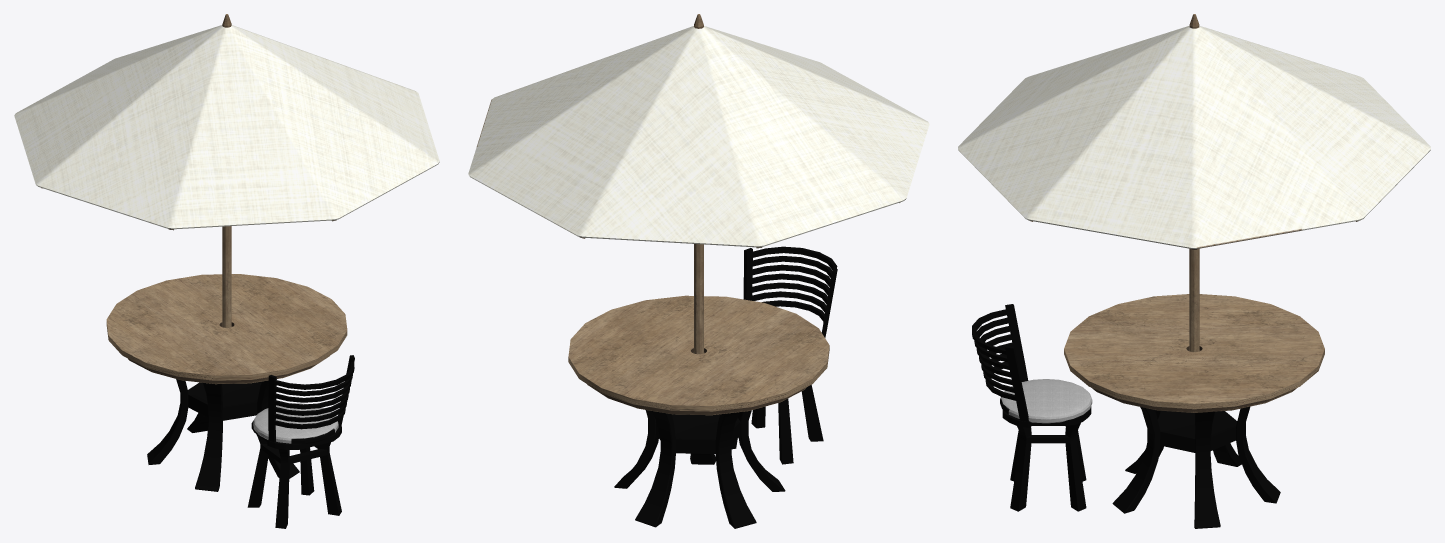
Rendered from beach_table.glb.
3 renders of one model, left to right at view 1: azimuth 30°, elevation 25°; view 2: azimuth 150°, elevation 25°; view 3: azimuth 270°, elevation 25°, orthographic. The views are drawn at different scales.
Parts seen in each view (by area): view 1: pCone2, pCylinder7, pCylinder9; view 2: pCone2, pCylinder7, pCylinder9; view 3: pCone2, pCylinder7, pCylinder9.
Part boxes in pixels (x1=…): pCone2: x1=14, y1=14, x2=439, y2=327; pCylinder7: x1=106, y1=274, x2=347, y2=491; pCylinder9: x1=247, y1=355, x2=354, y2=528; pCone2: x1=468, y1=14, x2=929, y2=354; pCylinder7: x1=568, y1=295, x2=829, y2=528; pCylinder9: x1=731, y1=246, x2=837, y2=464; pCone2: x1=958, y1=14, x2=1430, y2=351; pCylinder7: x1=1064, y1=294, x2=1324, y2=528; pCylinder9: x1=972, y1=304, x2=1092, y2=511.
Bounding box in the file's own units: 18.87 × 21.12 × 18.87.
Materials: 3 (3 with a texture image).
